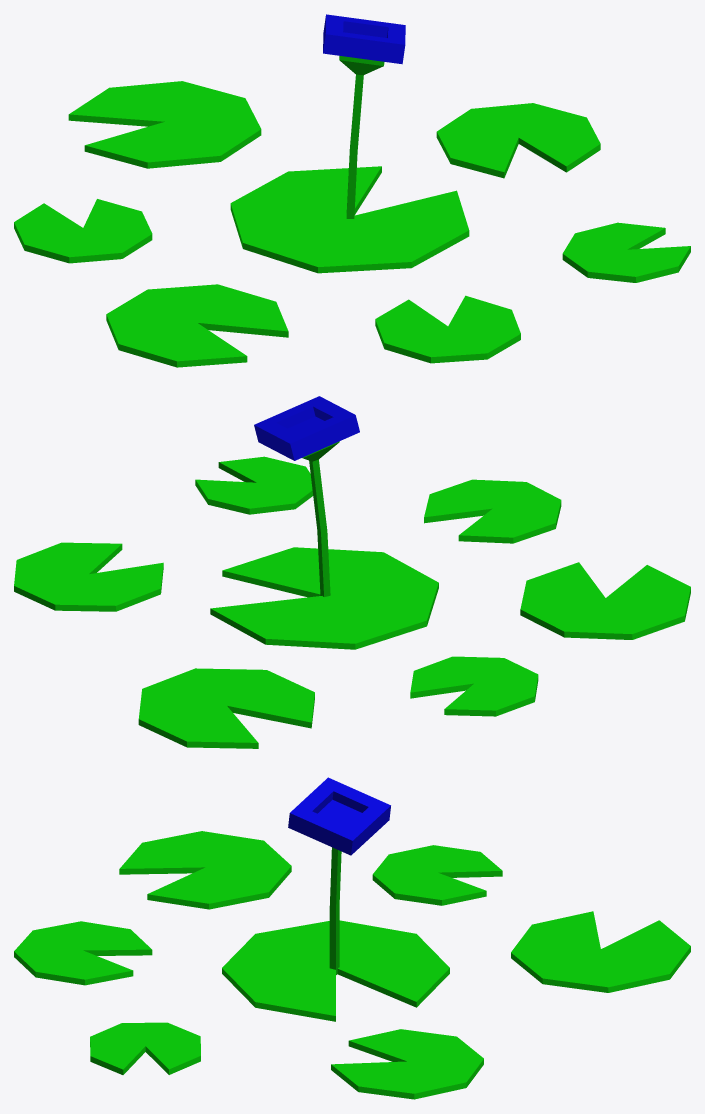
File: Lilypad2.fbx
3 views of the same model, one above another, from view 1: azimuth 30°, elevation 25°; view 2: azimuth 150°, elevation 25°; view 3: azimuth 270°, elevation 25° (orthographic). The views are drawn at different scales.
Visible parts, largest first — view 1: LilyPad2; view 2: LilyPad2; view 3: LilyPad2.
Part boxes in pixels (box(x1,y1,x2,y2)): LilyPad2: box(14, 14, 690, 367); LilyPad2: box(14, 396, 690, 748); LilyPad2: box(14, 777, 690, 1099).
Bounding box in the file's own units: 139 × 45.14 × 151.
